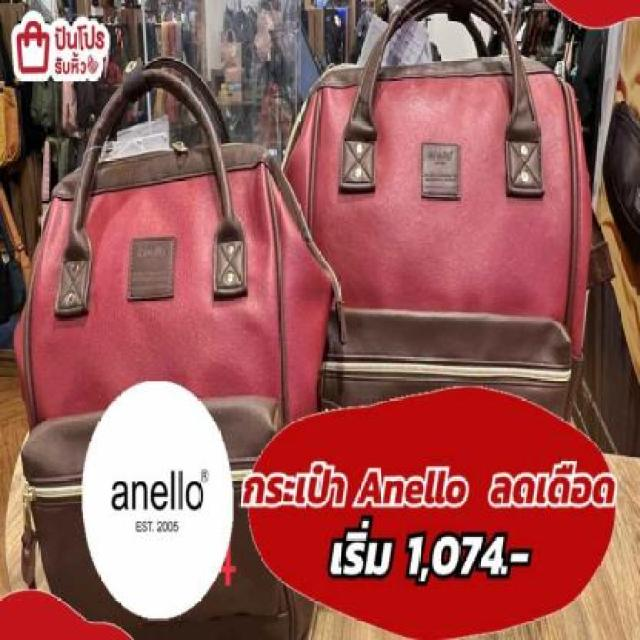Bag: (11, 51, 348, 640), (281, 0, 595, 438)
